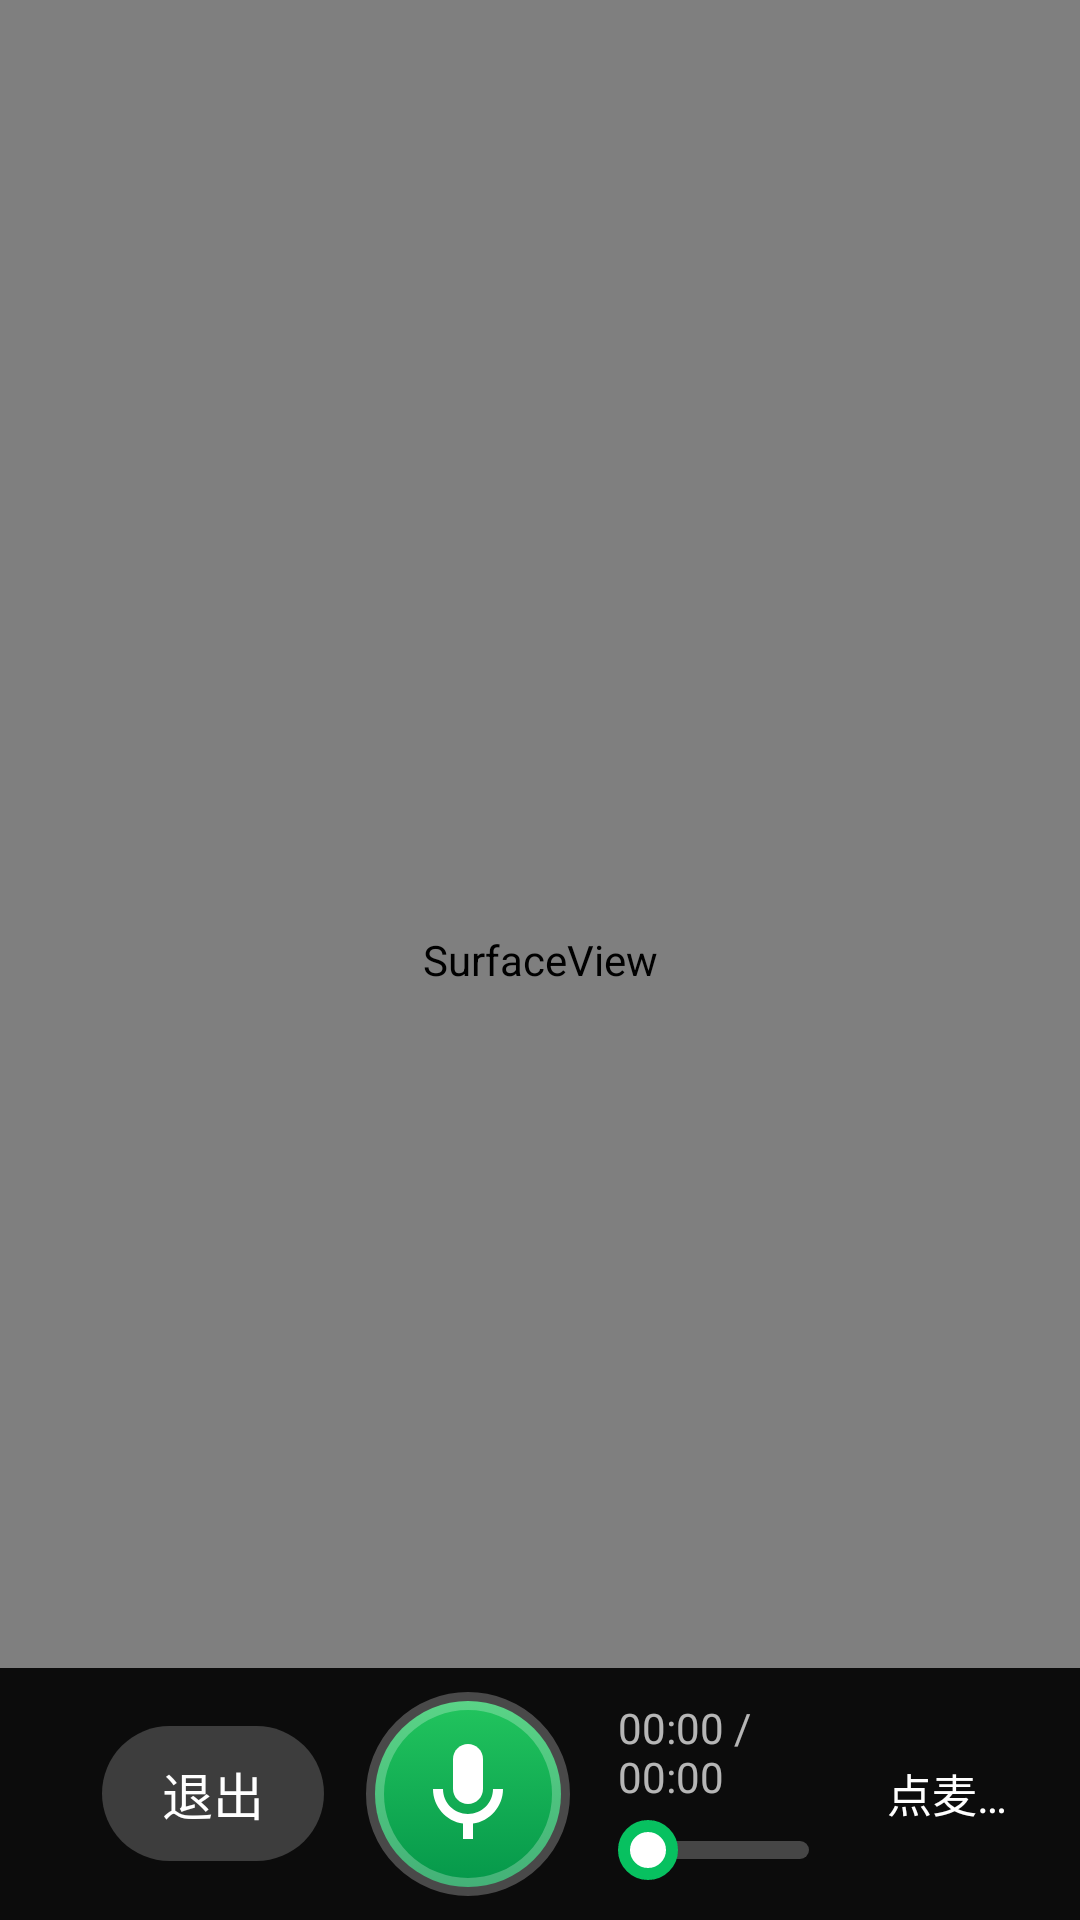

Where icons sit on this 1080w x 1920h app screen, as (x1, y1, x2, y2):
说话: (366, 1692, 570, 1896)
